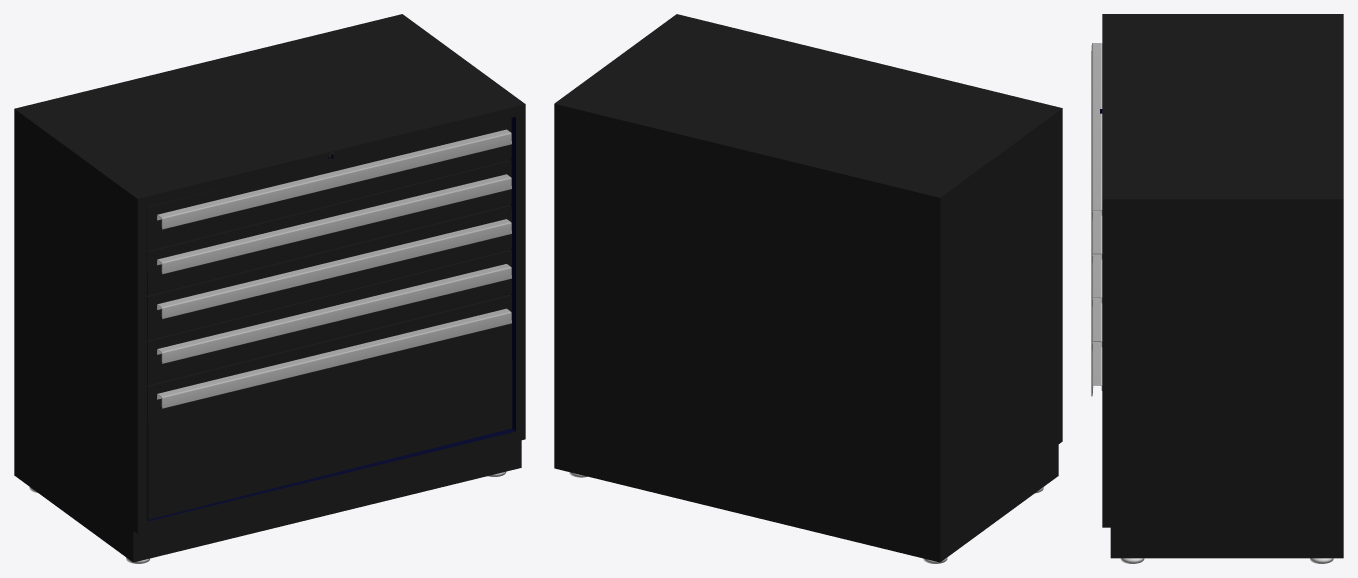
Rendered from drawer5Base40.glb.
The picture shows the model from 3 angles, left to right: view 1: azimuth 30°, elevation 25°; view 2: azimuth 150°, elevation 25°; view 3: azimuth 270°, elevation 25°; orthographic projection. The views are drawn at different scales.
Visible parts, largest first — view 1: shellFp, drawers, handlesFp; view 2: shellFp; view 3: shellFp, handlesFp.
Part boxes in pixels (bbox=[...]): shellFp: bbox=[14, 14, 525, 562]; drawers: bbox=[147, 118, 512, 519]; handlesFp: bbox=[157, 129, 511, 408]; shellFp: bbox=[554, 14, 1062, 562]; shellFp: bbox=[1100, 14, 1343, 558]; handlesFp: bbox=[1091, 43, 1102, 396].
Bounding box in the file's own units: 1.02 × 0.9382 × 0.5842.
Materials: 4 (1 with a texture image).
